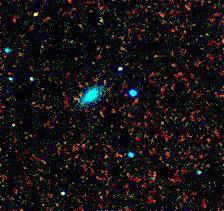star: (16, 0, 46, 30)
